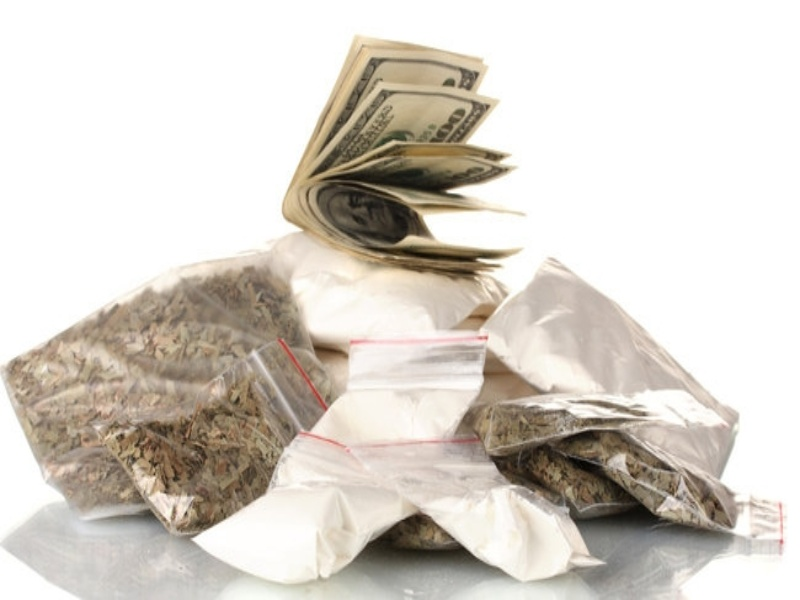cash: (281, 33, 526, 276)
